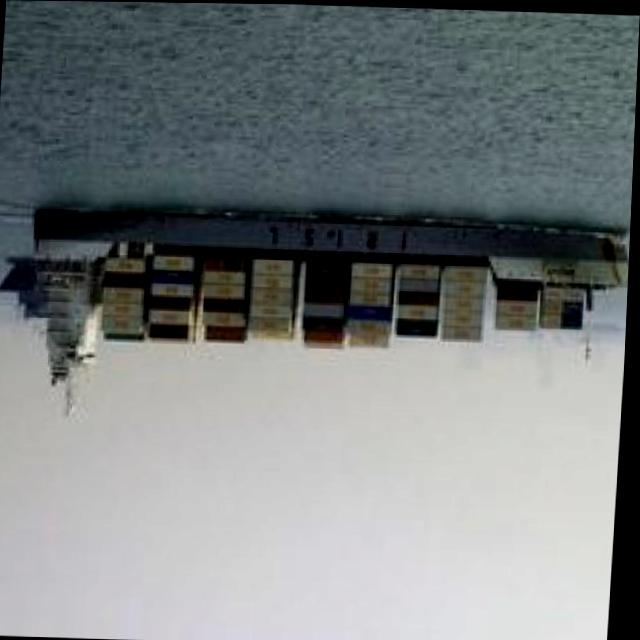ship2: (1, 206, 632, 415)
